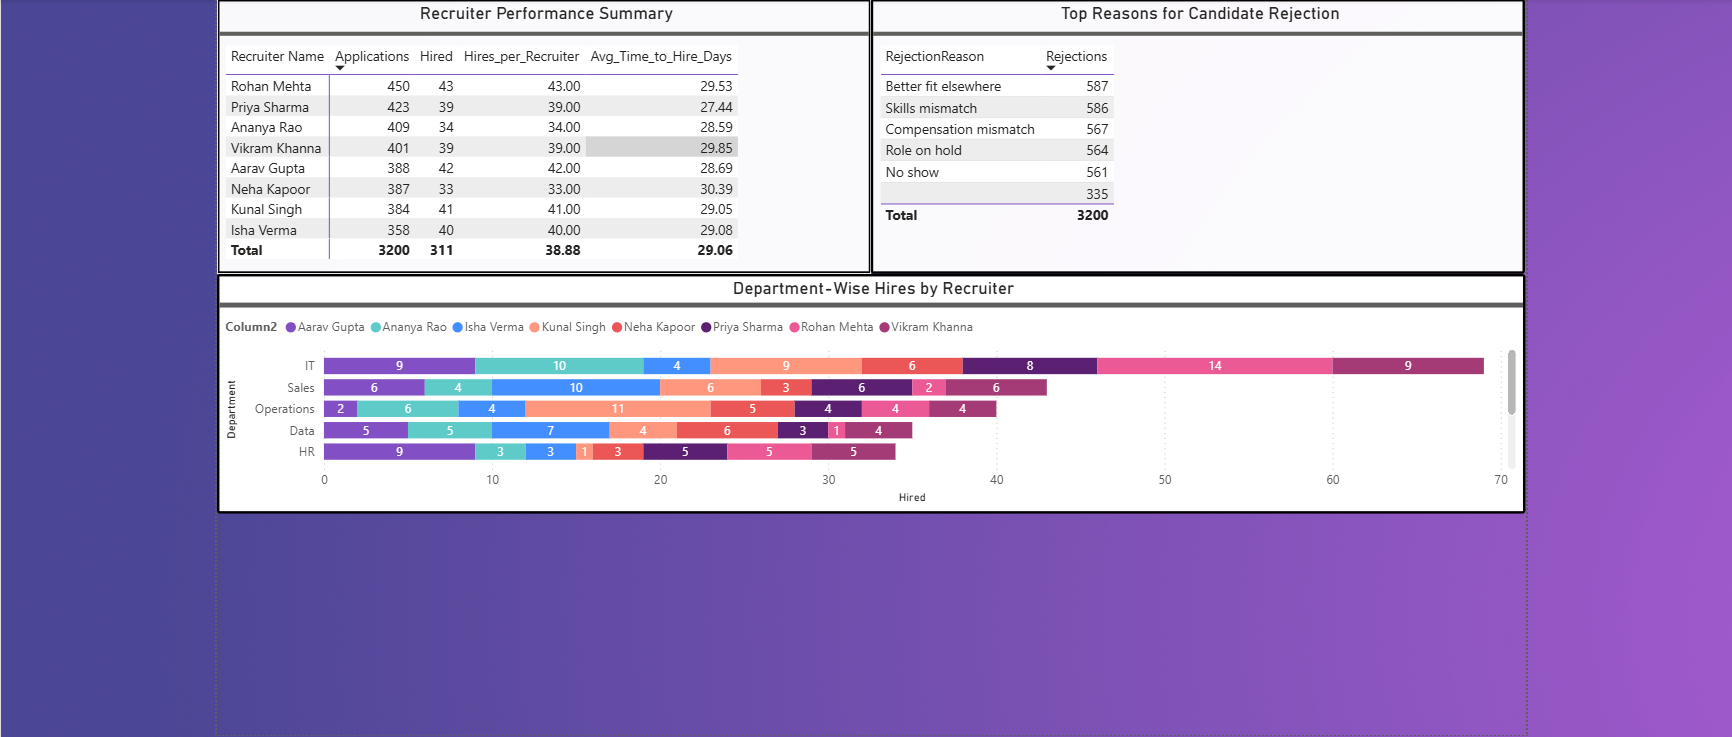

Layout of this report page (visuals, bound fields, positions):
{"tool":"powerbi","page":{"name":"Recruiter Operations","canvas":[1280,720],"ordinal":2},"visuals":[{"type":"pivotTable","title":"Recruiter Performance Summary","fields":{"Rows":["Recruiters.Column2"],"Values":["Applications.Applications","Applications.Hired","Applications.Hires_per_Recruiter","Applications.Avg_Time_to_Hire_Days"]},"box":[0,0,640,268.6],"z":0},{"type":"barChart","title":"Department-Wise Hires by Recruiter","fields":{"Category":["Requisitions.Department"],"Series":["Recruiters.Column2"],"Y":["Applications.Hired"]},"box":[0,268.6,1280,234.3],"z":1000},{"type":"tableEx","title":"Top Reasons for Candidate Rejection","fields":{"Values":["Applications.RejectionReason","Applications.Rejections"]},"box":[640,0,640,268.6],"z":2000}]}

Visuals, with their boxes on the page's 1280x720 design canvas (x1, y1, x2, y2). These are canvas units, not pixel positions in the 1732x737 screenshot, which may show the page scaled, cropped or inside an application window:
"Recruiter Performance Summary" pivotTable: bbox=[0, 0, 640, 269]
"Department-Wise Hires by Recruiter" barChart: bbox=[0, 269, 1280, 503]
"Top Reasons for Candidate Rejection" tableEx: bbox=[640, 0, 1280, 269]
